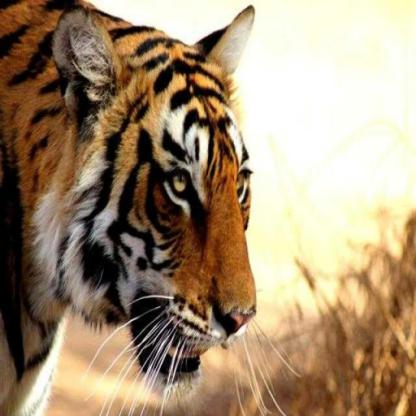Tiger: (0, 0, 280, 415)
